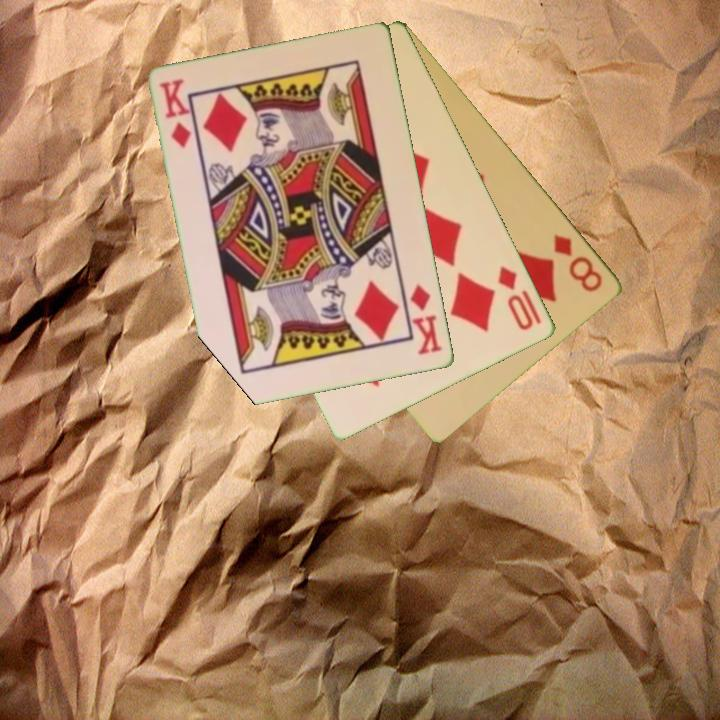10d: (495, 262, 537, 334)
8d: (550, 230, 606, 295)
Kd: (407, 281, 445, 358), (157, 76, 195, 151)
